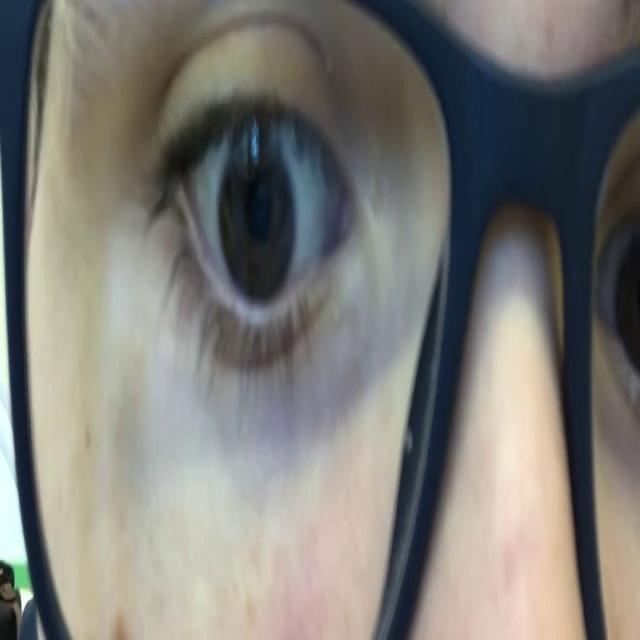eye: (140, 60, 363, 401)
gaze: (215, 116, 303, 330)
